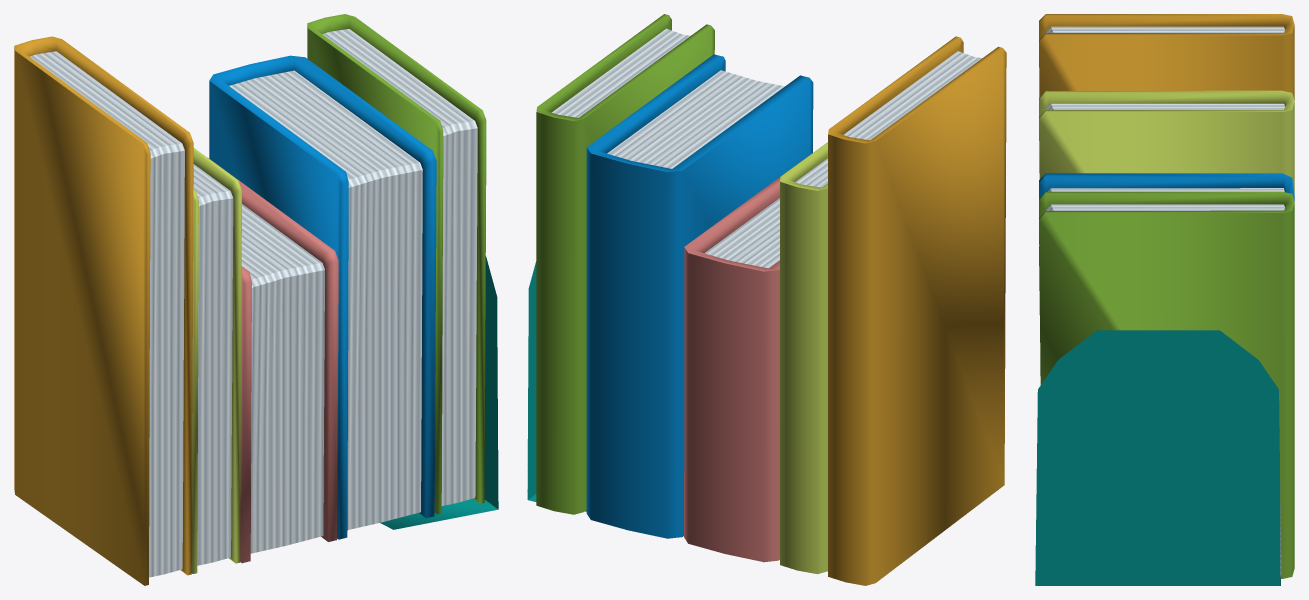
Rendered from Book.fbx.
The picture shows the model from 3 angles, left to right: view 1: azimuth 30°, elevation 25°; view 2: azimuth 150°, elevation 25°; view 3: azimuth 270°, elevation 25°; orthographic projection. The views are drawn at different scales.
Parts seen in each view (by area): view 1: Book; view 2: Book; view 3: Book.
Part boxes in pixels (x1,y1,x2,y2): Book: (14, 14, 498, 585); Book: (527, 14, 1006, 585); Book: (1035, 14, 1294, 585).
Size of the model in its own units: 232 by 283 by 161.
Materials: 1 (1 with a texture image).
